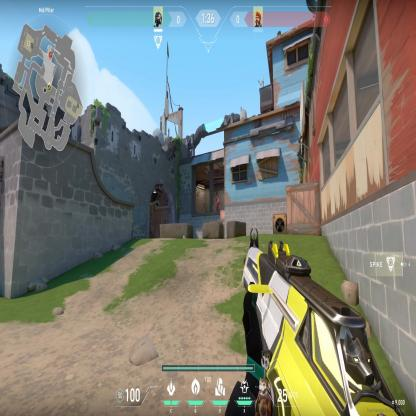enemy: (215, 195, 220, 212)
